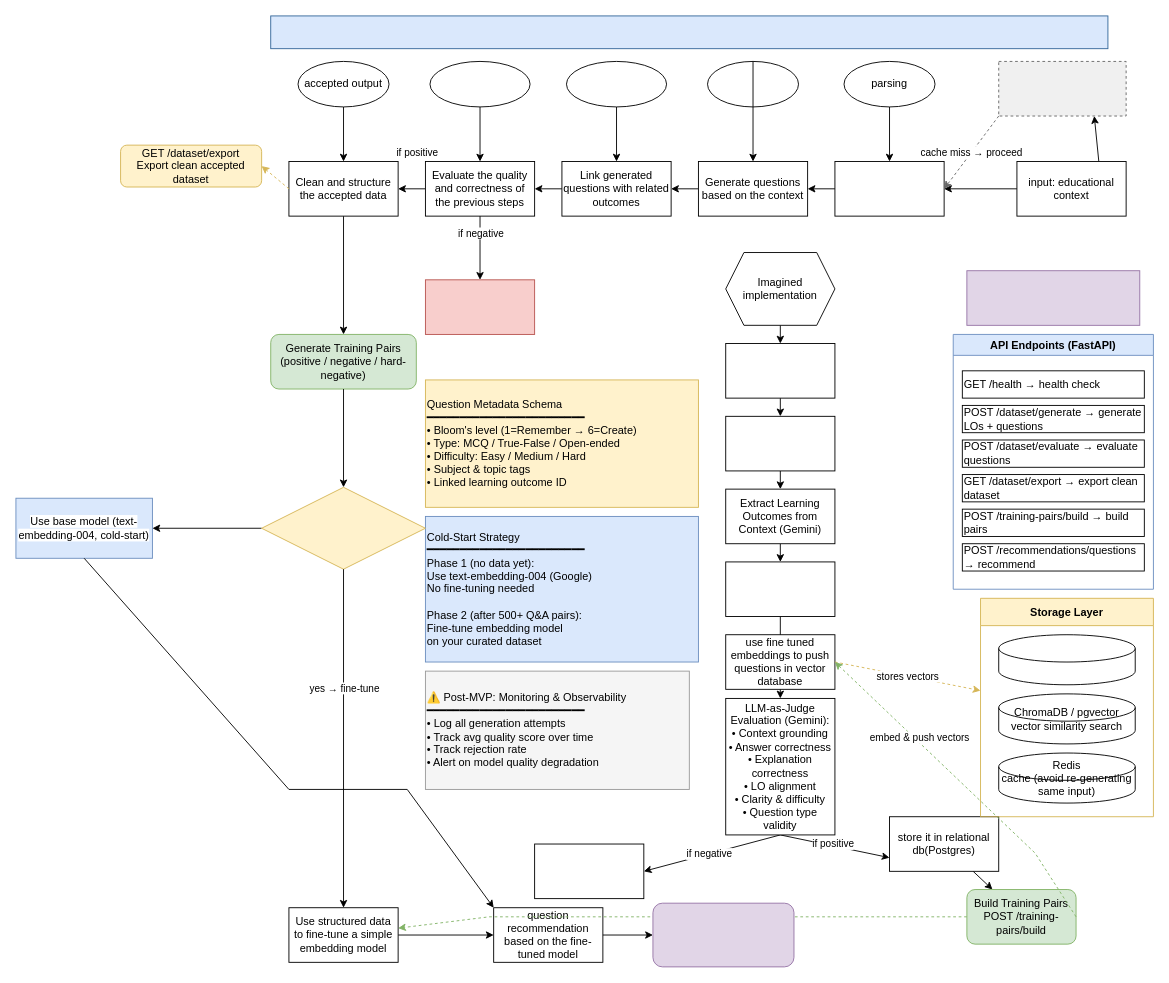
This 1169x983 diagram has some shape labels left out. The shapes that lost their labels are listed below. From the top down, each one's centre as x and y in pixels, then its label:
At [689,32]: "① Abstract Pipeline".
At [479,84]: "evaluation".
At [616,84]: "linking".
At [753,84]: "extraction".
At [1062,88]: "Check Redis cache (skip re-generation if hit)".
At [889,188]: "Extract/Generate learning outcomes from input context".
At [480,306]: "Log rejection reason & flag for review".
At [1053,297]: "Orchestration: FastAPI (API layer) + LangGraph (pipeline engine)".
At [780,370]: "build pydantic data constraints (used in every input and output)".
At [780,443]: "input is entered as JSON".
At [343,527]: "≥500 accepted Q&A pairs?".
At [780,589]: "Generate Questions, Answers & Explanations (Gemini)".
At [1066,659]: "PostgreSQL questions, outcomes, metadata".
At [589,871]: "log reason then discard or flag for review".
At [723,934]: "Recommendation Evaluation (base vs fine-tuned model) Top-K LO match rate metric".
